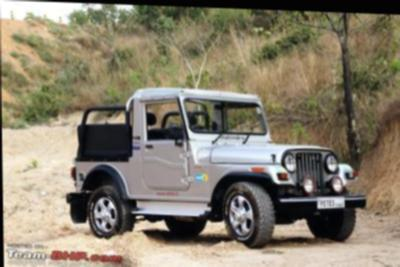License_Plate: (313, 193, 348, 214)
